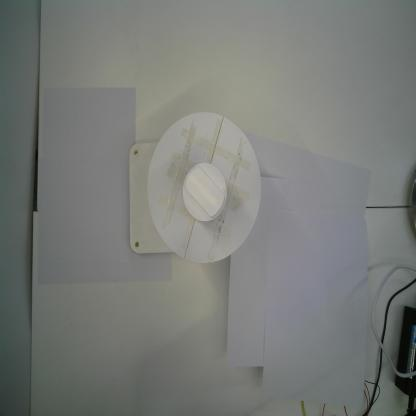Canned Food: (181, 160, 228, 224)
